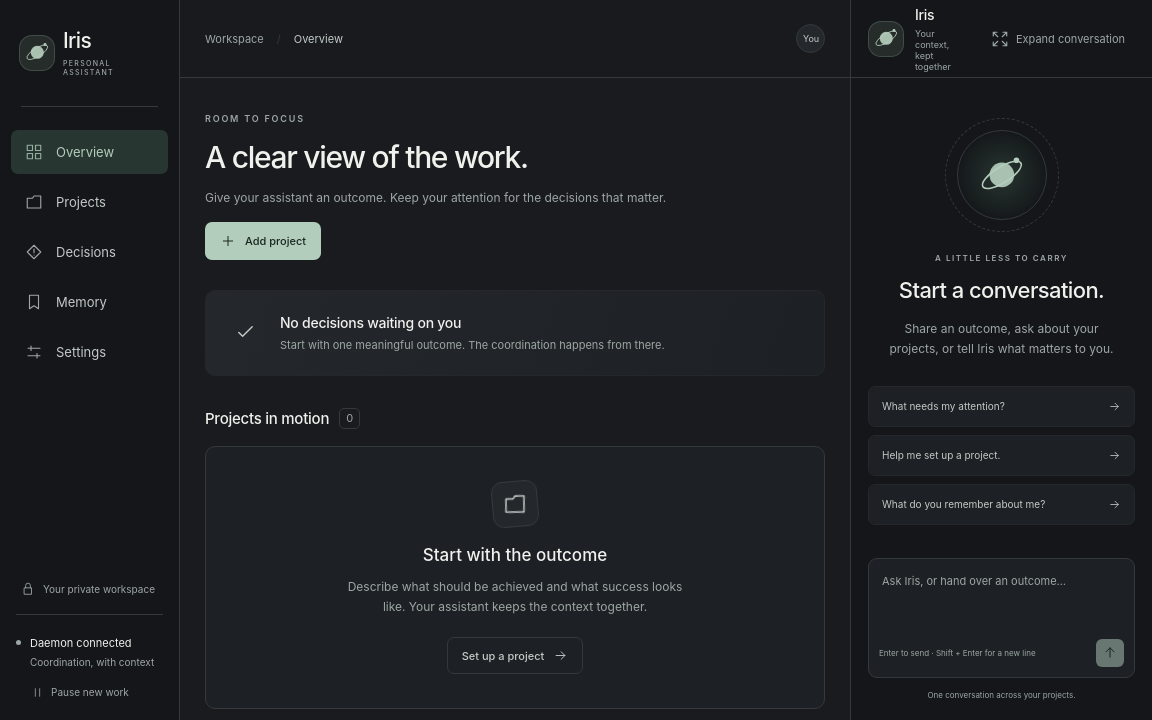
Test: owner dashboard flows › preserves the submitted message when delivery is not confirmed
Type "Please coordinate this project." into the text box named "Message Iris" at coordinates (1002, 597), box [869, 559, 1134, 636]
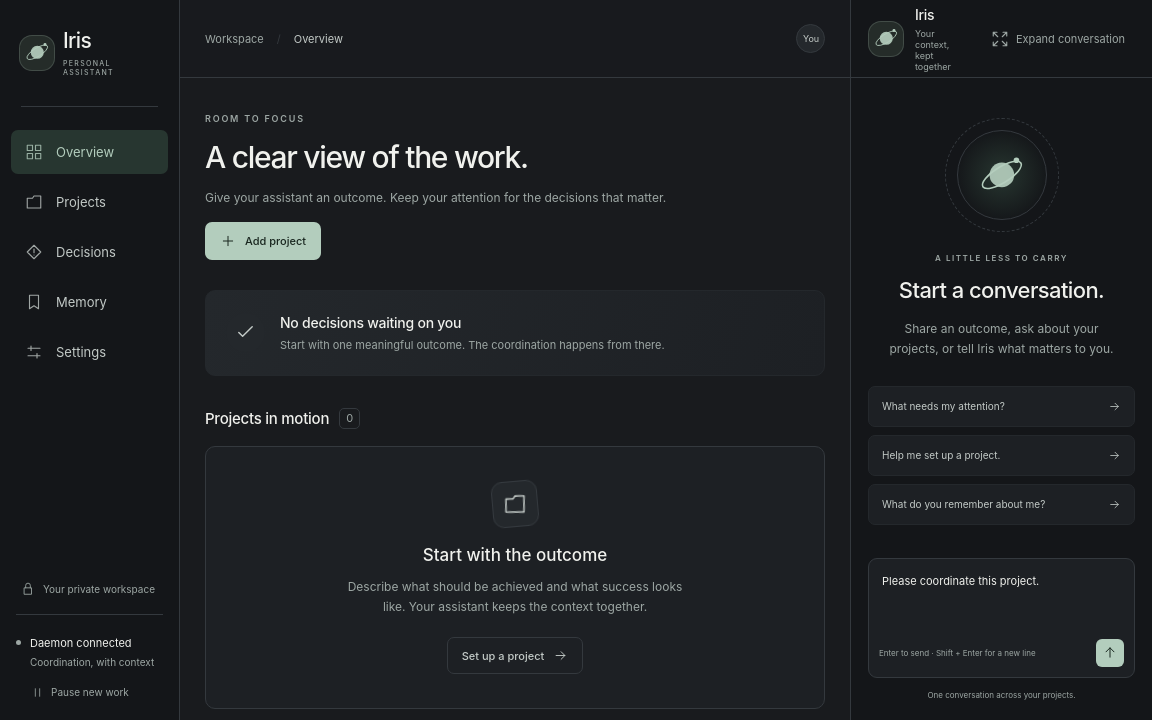
Click the button named "Send message" at coordinates (1110, 653), box [1096, 639, 1124, 667]
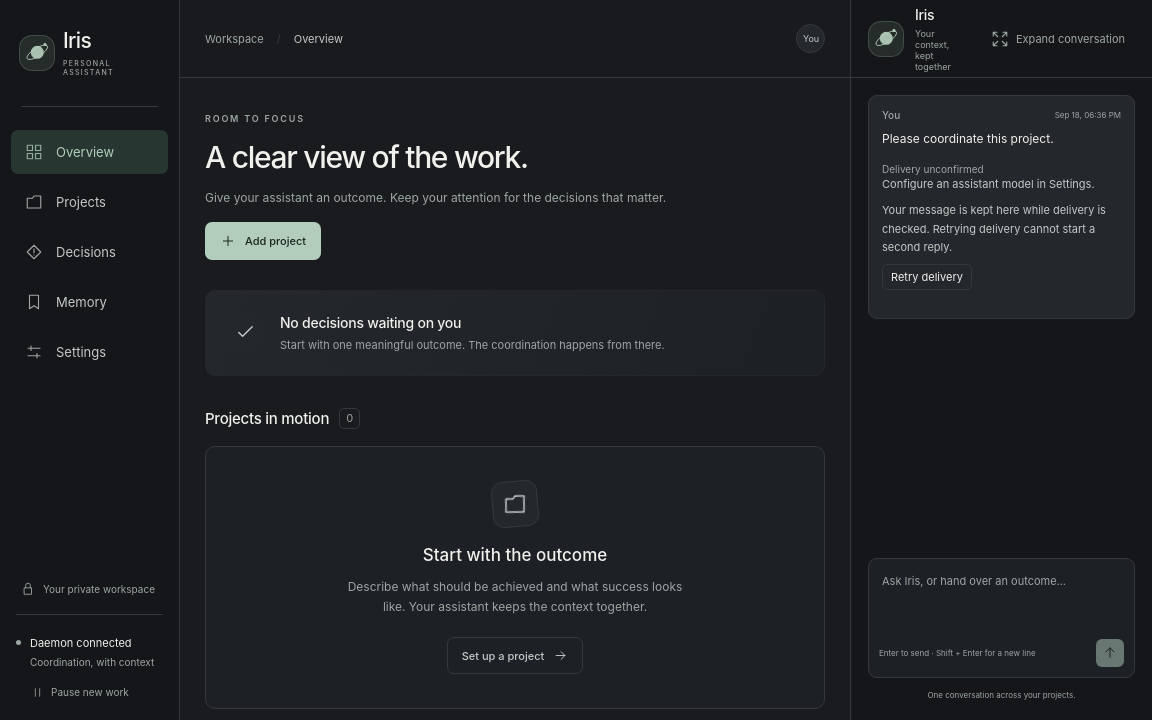
Expected: the message reads "Configure an assistant model in Settings.", [882, 177, 1095, 191]
Expected: the text "Please coordinate this project." is shown, [882, 131, 1054, 146]
Expected: the button "Retry delivery" is shown, [882, 264, 972, 290]
